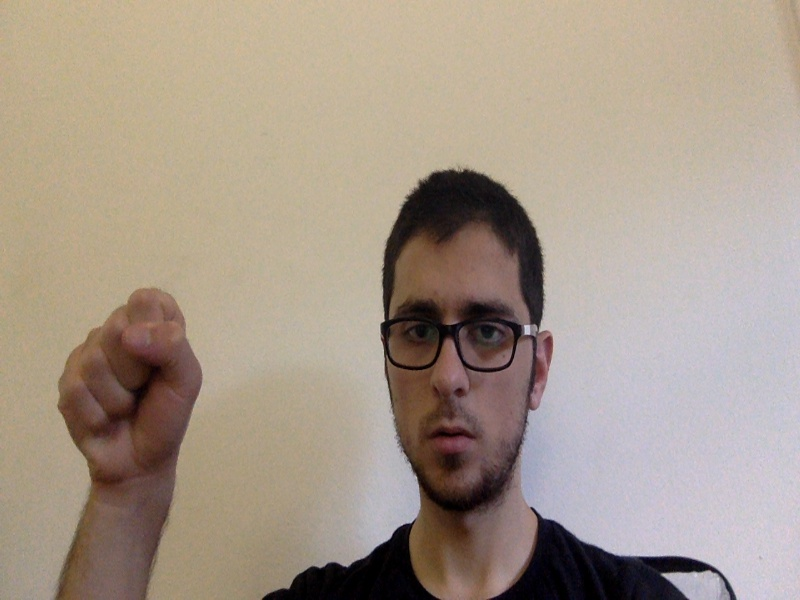0-hand: (59, 290, 201, 479)
